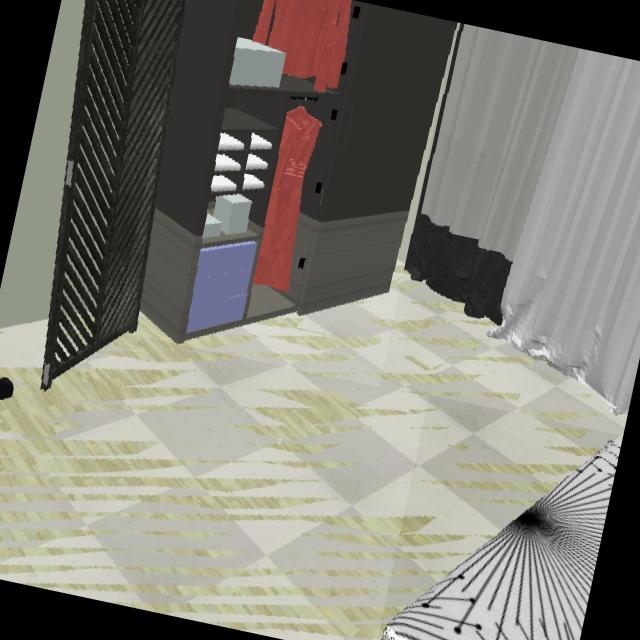bed: (379, 436, 622, 640)
wardrobe: (141, 0, 456, 344)
